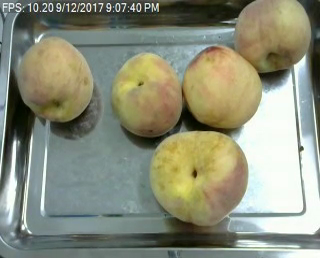Peach: (149, 131, 249, 229), (17, 33, 96, 123), (184, 47, 264, 130), (110, 52, 182, 139), (233, 0, 311, 73)
